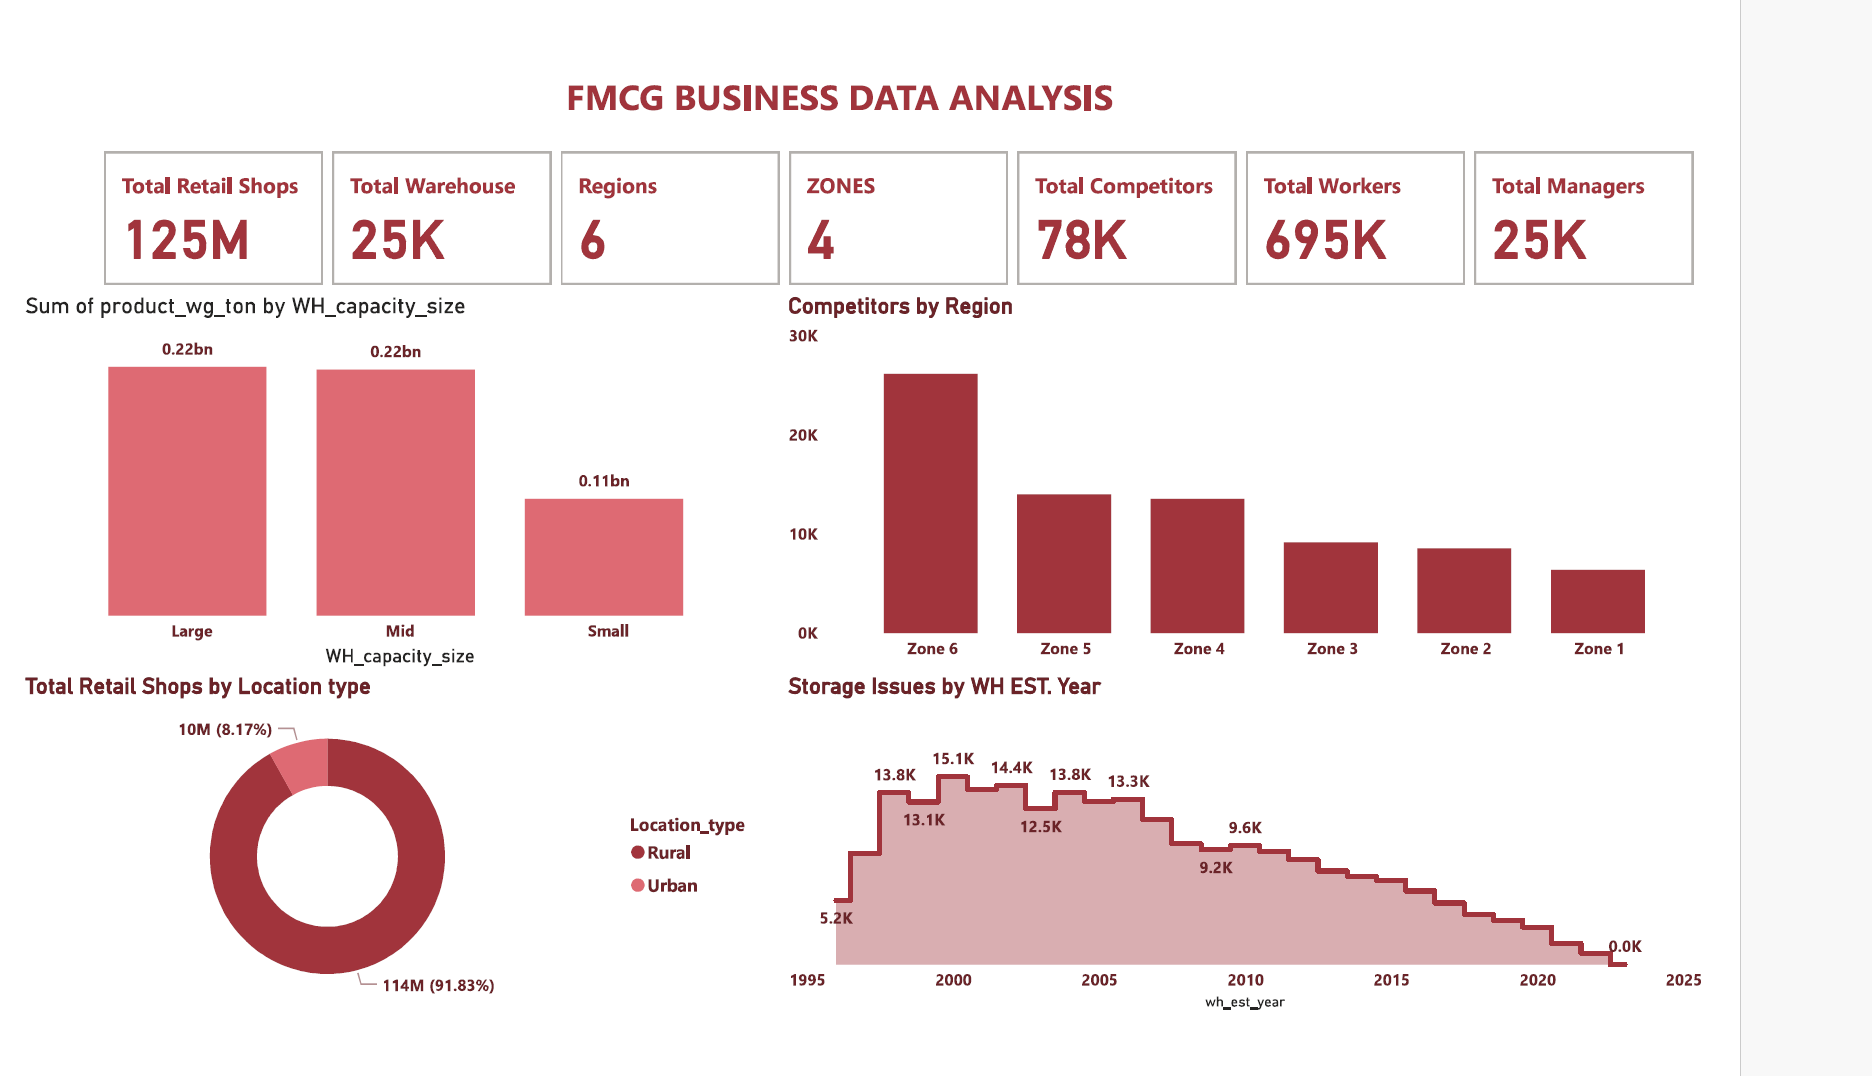

The dashboard page shown, as its layout file describes it:
{"tool":"powerbi","page":{"name":"Page 1","canvas":[1280,720],"ordinal":0},"visuals":[{"type":"donutChart","title":"Total Retail Shops by Location type","fields":{"Category":["FMCG_data.Location_type"],"Y":["Sum(FMCG_data.retail_shop_num)"]},"box":[0,460.4,577.8,259.6],"z":0},{"type":"lineStackedColumnComboChart","title":"Competitors by Region","fields":{"Category":["FMCG_data.WH_regional_zone"],"Y":["Sum(FMCG_data.Competitor_in_mkt)"]},"box":[577.8,172.4,702.2,288],"z":1000},{"type":"clusteredColumnChart","fields":{"Category":["FMCG_data.WH_capacity_size"],"Y":["Sum(FMCG_data.product_wg_ton)"]},"box":[0,172.4,577.8,288],"z":2000},{"type":"areaChart","title":"Storage Issues by WH EST. Year","fields":{"Category":["FMCG_data.wh_est_year"],"Y":["Sum(FMCG_data.storage_issue_reported_l3m)"]},"box":[577.8,460.4,702.2,259.6],"z":3000},{"type":"cardVisual","fields":{"Data":["Sum(FMCG_data.retail_shop_num)","Count(FMCG_data.Ware_house_ID)","Count(FMCG_data.WH_regional_zone)","Count(FMCG_data.zone)","Sum(FMCG_data.Competitor_in_mkt)","Sum(FMCG_data.workers_num)","Count(FMCG_data.WH_Manager_ID)"]},"box":[155.2,61,1124.8,111.4],"z":4000},{"type":"textbox","box":[332.6,0,578.5,61.5],"z":5000},{"type":"slicer","fields":{"Values":["FMCG_data.zone"]},"box":[0,22.4,155.2,150],"z":5001}]}

Visuals, with their boxes in screenshot pixels (x1, y1, x2, y2), scaled from the page's 1280x720 canvas onto the 1872x1076 screenshot:
"Total Retail Shops by Location type" donutChart: pyautogui.locateOnScreen(0, 688, 845, 1075)
"Competitors by Region" lineStackedColumnComboChart: pyautogui.locateOnScreen(845, 258, 1871, 688)
clusteredColumnChart - FMCG_data.WH_capacity_size x Sum(FMCG_data.product_wg_ton): pyautogui.locateOnScreen(0, 258, 845, 688)
"Storage Issues by WH EST. Year" areaChart: pyautogui.locateOnScreen(845, 688, 1871, 1075)
cardVisual - Sum(FMCG_data.retail_shop_num) x Count(FMCG_data.Ware_house_ID): pyautogui.locateOnScreen(227, 91, 1871, 258)
textbox: pyautogui.locateOnScreen(486, 0, 1332, 92)
slicer - FMCG_data.zone: pyautogui.locateOnScreen(0, 33, 227, 258)
